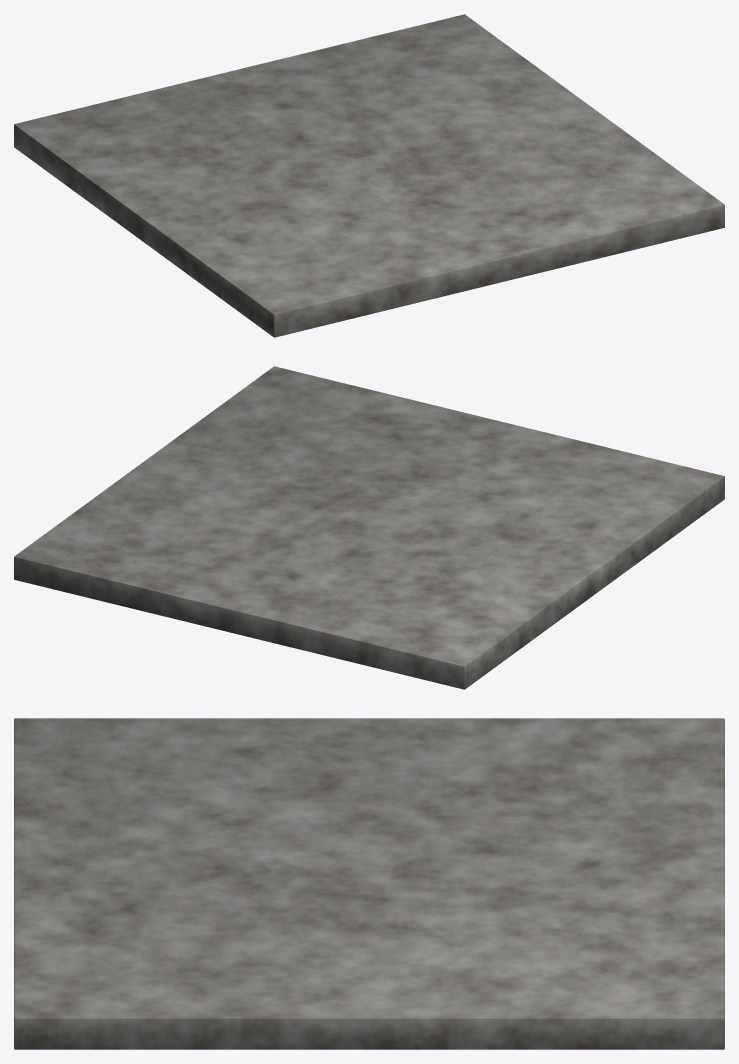
File: g67_pz_ceil_lamp.glb
3 renders of one model, top to bottom at view 1: azimuth 30°, elevation 25°; view 2: azimuth 150°, elevation 25°; view 3: azimuth 270°, elevation 25°, orthographic. The views are drawn at different scales.
Parts seen in each view (by area): view 1: g67_pz_ceil_lamp; view 2: g67_pz_ceil_lamp; view 3: g67_pz_ceil_lamp.
Boxes of the visible parts, x1,y1,x2,y2 form: g67_pz_ceil_lamp: [14, 14, 724, 337]; g67_pz_ceil_lamp: [14, 366, 724, 689]; g67_pz_ceil_lamp: [14, 718, 724, 1049].
Size of the model in its own units: 4 by 0.315 by 4.
Materials: 1 (1 with a texture image).
